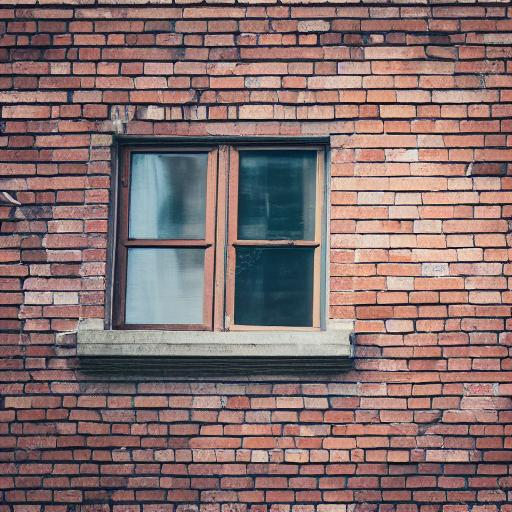Window: (75, 116, 357, 369)
